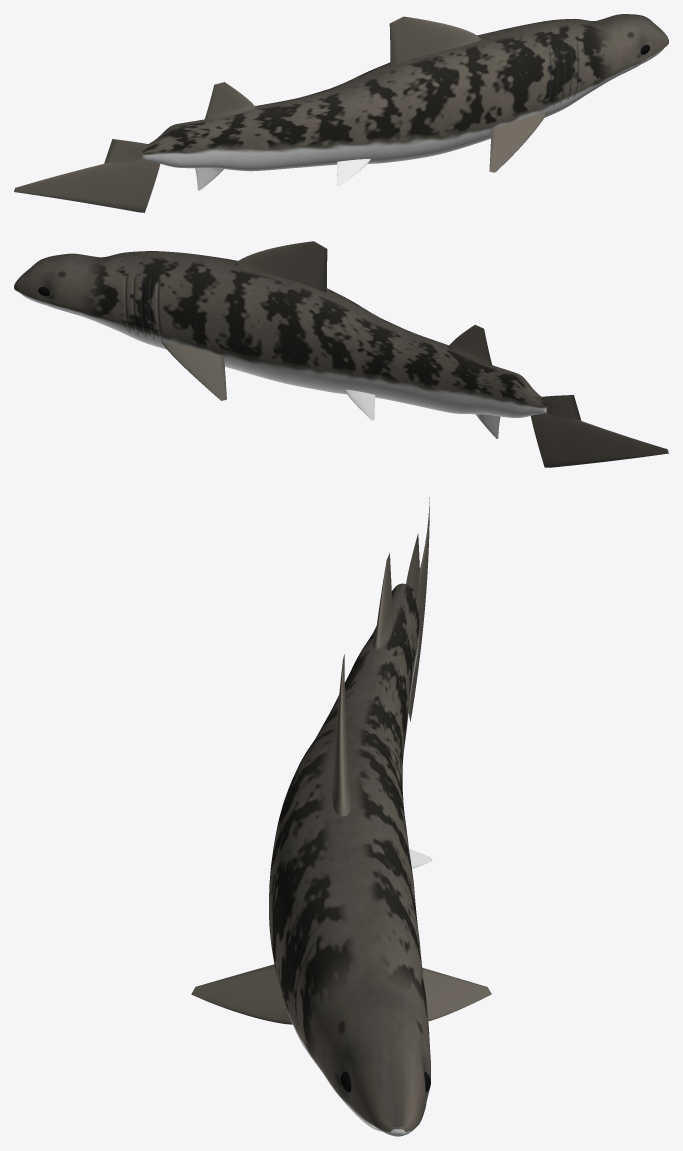
Rendered from leopard_shark.glb.
The picture shows the model from 3 angles, top to bottom: view 1: azimuth 30°, elevation 25°; view 2: azimuth 150°, elevation 25°; view 3: azimuth 270°, elevation 25°; orthographic projection. The views are drawn at different scales.
Parts seen in each view (by area): view 1: leopard_shark_Body, leopard_shark_Fins; view 2: leopard_shark_Body, leopard_shark_Fins; view 3: leopard_shark_Body, leopard_shark_Fins.
Boxes of the visible parts, x1,y1,x2,y2 form: leopard_shark_Body: (142, 14, 668, 171); leopard_shark_Fins: (14, 16, 547, 212); leopard_shark_Body: (14, 251, 546, 417); leopard_shark_Fins: (162, 241, 668, 467); leopard_shark_Body: (269, 583, 430, 1136); leopard_shark_Fins: (191, 497, 491, 1024).
Size of the model in its own units: 1.3 by 0.288 by 0.2622.
Materials: 3 (1 with a texture image).
